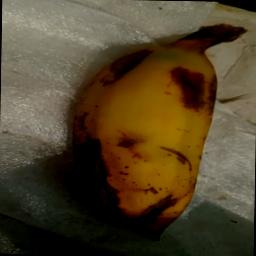Banana Overripe: (60, 12, 246, 239)
